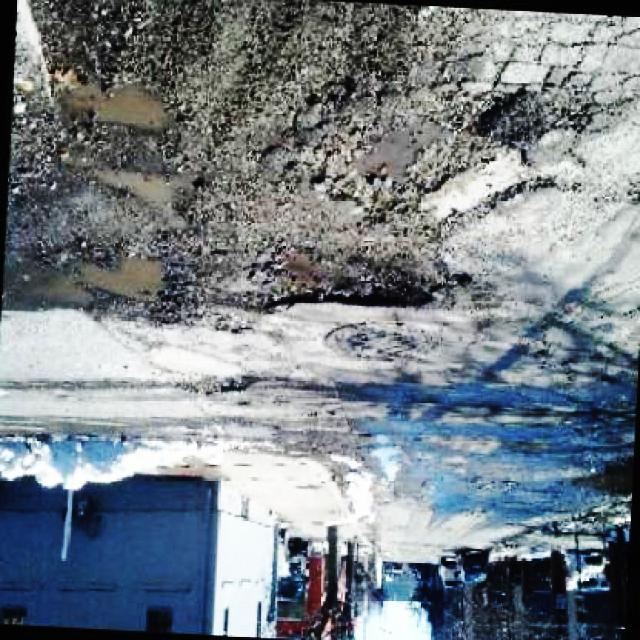pothole: (268, 89, 472, 214), (18, 237, 205, 331), (235, 241, 448, 314), (50, 57, 184, 140), (82, 162, 198, 246)
